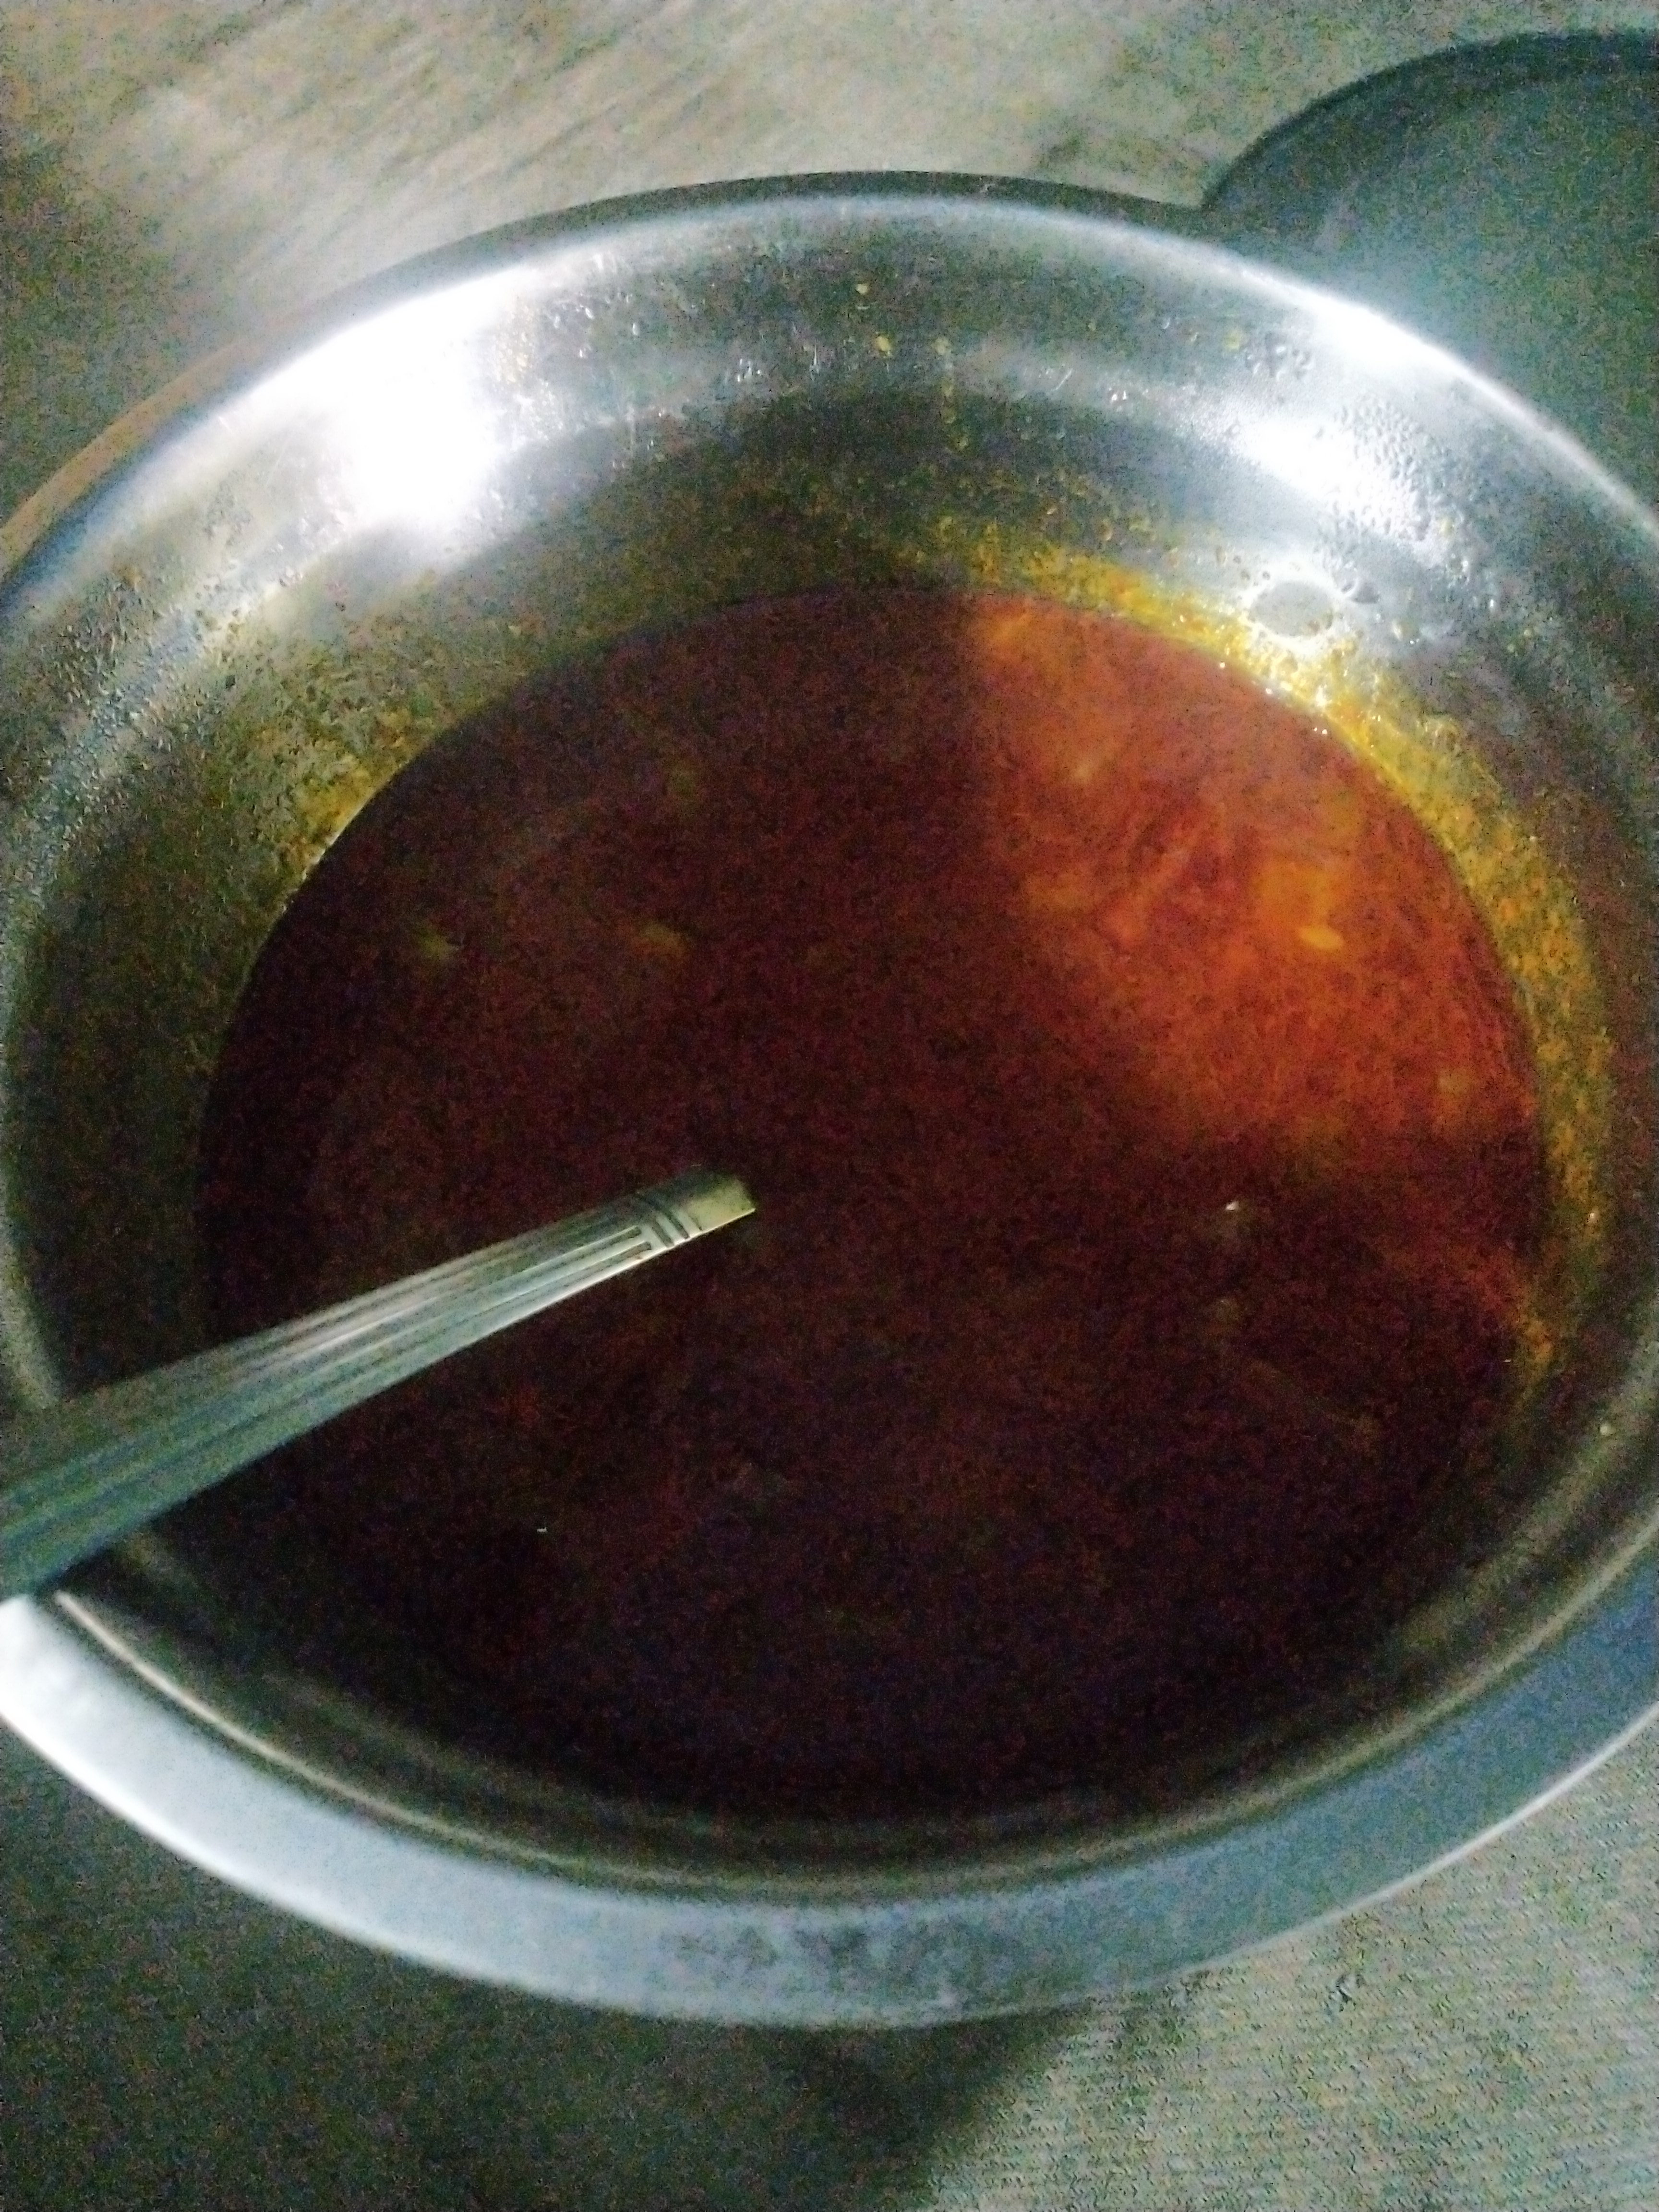food: (178, 559, 1577, 1822)
